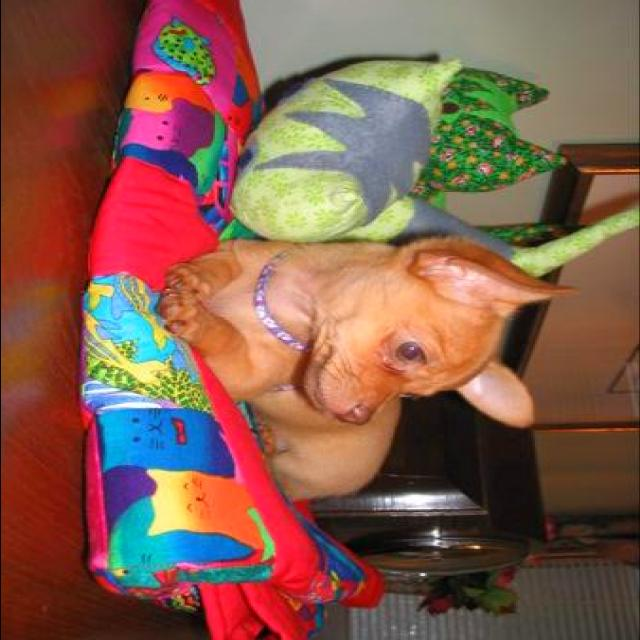chihuahua: (152, 234, 580, 500)
